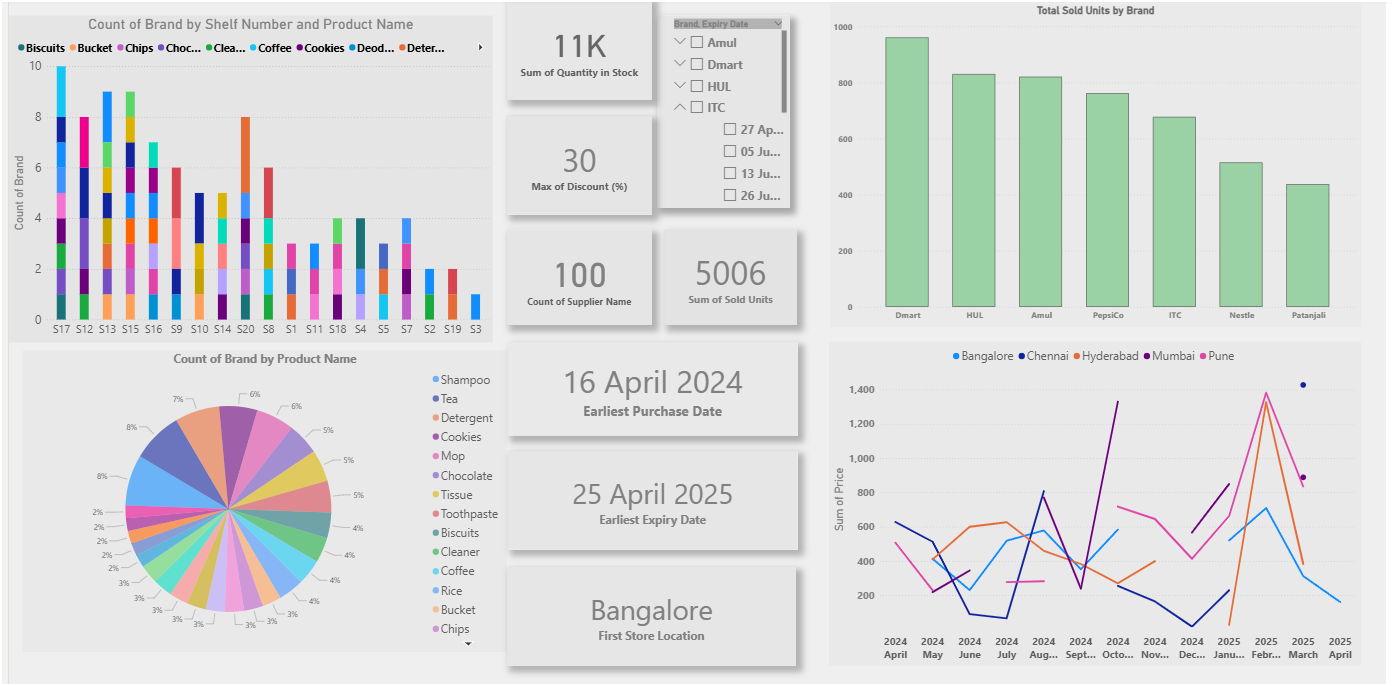

Layout of this report page (visuals, bound fields, positions):
{"tool":"powerbi","page":{"name":"Page 1","canvas":[2200,1100],"ordinal":0},"visuals":[{"type":"card","fields":{"Values":["Sum(Dmart.Sold Units)"]},"box":[1045.5,369.1,213.1,153.6],"z":0},{"type":"card","fields":{"Values":["Sum(Dmart.Quantity in Stock)"]},"box":[795.3,0,232.9,163.5],"z":1000},{"type":"pieChart","fields":{"Y":["CountNonNull(Dmart.Brand)"],"Category":["Dmart.Product Name"]},"box":[22.4,562.3,773.4,482],"z":2000},{"type":"card","fields":{"Values":["Max(Dmart.Discount (%))"]},"box":[795.3,188.3,232.9,158.6],"z":3000},{"type":"clusteredColumnChart","title":" Total Sold Units by Brand","fields":{"Category":["Dmart.Brand"],"Y":["Sum(Dmart.Sold Units)"]},"box":[1311.5,9.3,848.2,515.6],"z":4000},{"type":"card","fields":{"Values":["CountNonNull(Dmart.Supplier Name)"]},"box":[795.3,369.1,232.9,153.6],"z":5000},{"type":"lineChart","fields":{"Category":["Dmart.Purchase Date.Variation.Date Hierarchy.Year","Dmart.Purchase Date.Variation.Date Hierarchy.Month"],"Y":["Sum(Dmart.Price)"],"Series":["Dmart.Store Location"]},"box":[1310.6,550,849.8,517.8],"z":6000},{"type":"ribbonChart","fields":{"Category":["Dmart.Shelf Number"],"Y":["Count(Dmart.Brand)"],"Series":["Dmart.Product Name"]},"box":[0,27.3,773,522.7],"z":7000},{"type":"slicer","fields":{"Values":["Dmart.Brand","Dmart.Expiry Date"]},"box":[1035,28,213,308.3],"z":8000},{"type":"card","fields":{"Values":["Min(Dmart.Purchase Date)"]},"box":[795.9,549.3,463.3,151.3],"z":9000},{"type":"card","fields":{"Values":["Min(Dmart.Expiry Date)"]},"box":[795.9,723,463.3,158.8],"z":10000},{"type":"card","fields":{"Values":["Min(Dmart.Store Location)"]},"box":[795.3,909.2,463.3,158.6],"z":11000}]}

Visuals, with their boxes in screenshot pixels (x1, y1, x2, y2), scaled from the page's 2200x1100 canvas onto the 1394x686 screenshot:
card - Sum(Dmart.Sold Units): [662, 230, 797, 326]
card - Sum(Dmart.Quantity in Stock): [504, 0, 652, 102]
pieChart - CountNonNull(Dmart.Brand) x Dmart.Product Name: [14, 351, 504, 651]
card - Max(Dmart.Discount (%)): [504, 117, 652, 216]
" Total Sold Units by Brand" clusteredColumnChart: [831, 6, 1368, 327]
card - CountNonNull(Dmart.Supplier Name): [504, 230, 652, 326]
lineChart - Dmart.Purchase Date.Variation.Date Hierarchy.Year x Dmart.Purchase Date.Variation.Date Hierarchy.Month: [830, 343, 1369, 666]
ribbonChart - Dmart.Shelf Number x Count(Dmart.Brand): [0, 17, 490, 343]
slicer - Dmart.Brand x Dmart.Expiry Date: [656, 17, 791, 210]
card - Min(Dmart.Purchase Date): [504, 343, 798, 437]
card - Min(Dmart.Expiry Date): [504, 451, 798, 550]
card - Min(Dmart.Store Location): [504, 567, 797, 666]
